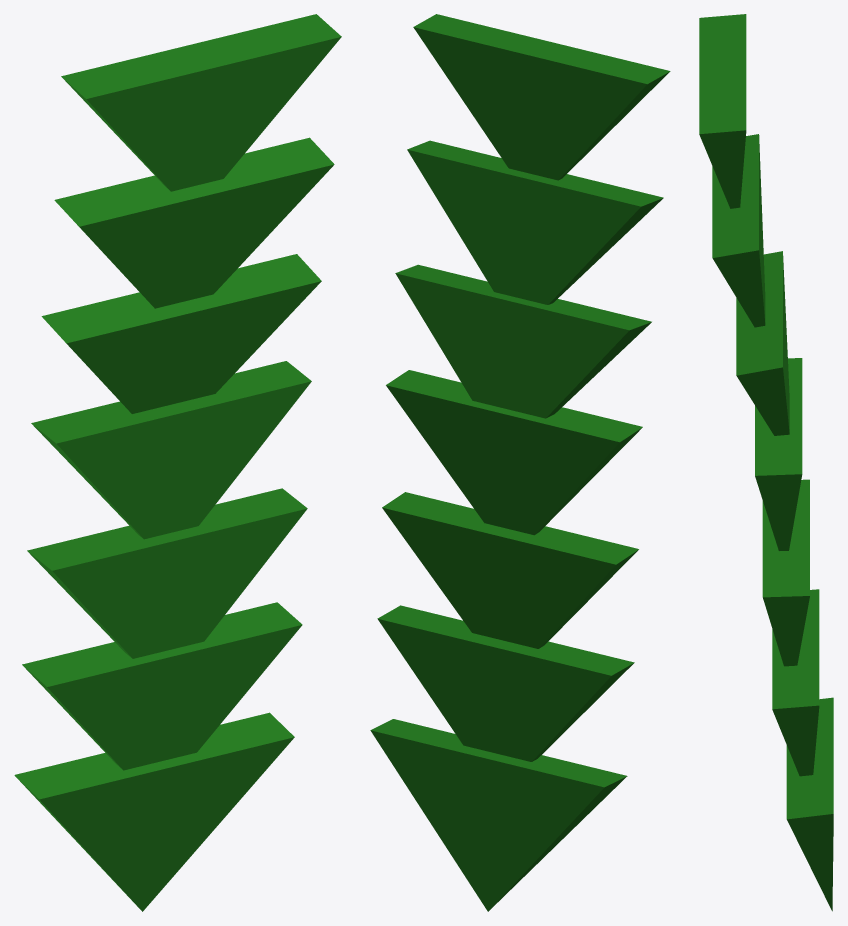
Rendered from Sea weed_01.fbx.
3 views of the same model, side by side, from view 1: azimuth 30°, elevation 25°; view 2: azimuth 150°, elevation 25°; view 3: azimuth 270°, elevation 25° (orthographic). The views are drawn at different scales.
Visible parts, largest first — view 1: Pyramid001; view 2: Pyramid001; view 3: Pyramid001.
Boxes of the visible parts, x1,y1,x2,y2 form: Pyramid001: (14, 14, 341, 911); Pyramid001: (370, 14, 670, 911); Pyramid001: (699, 14, 833, 911).
Size of the model in its own units: 155 by 522 by 75.89.
